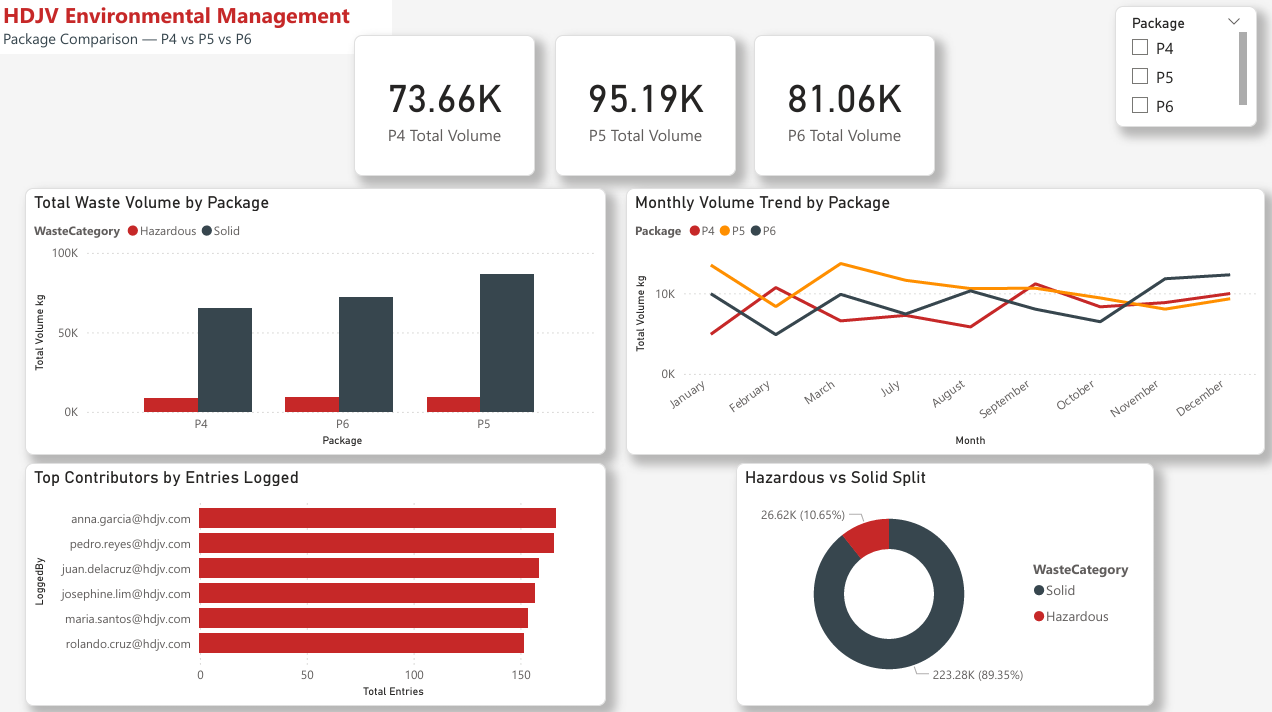

This screenshot's page, from the dashboard's own definition file:
{"tool":"powerbi","page":{"name":"Package Comparison","canvas":[1280,720],"ordinal":2},"visuals":[{"type":"textbox","box":[0,0,394.7,60.2],"z":0},{"type":"card","fields":{"Values":["WasteLog.P4 Total Volume"]},"box":[356,39.8,181.5,140.7],"z":1000},{"type":"card","fields":{"Values":["WasteLog.P5 Total Volume"]},"box":[556.9,39.8,181.5,140.7],"z":2000},{"type":"card","fields":{"Values":["WasteLog.P6 Total Volume"]},"box":[755.8,39.8,181.5,140.7],"z":3000},{"type":"clusteredColumnChart","title":"Total Waste Volume by Package","fields":{"Category":["WasteLog.Package"],"Y":["WasteLog.Total Volume kg"],"Series":["WasteLog.WasteCategory"]},"box":[26.5,192.8,581.4,267.2],"z":4000},{"type":"lineChart","title":"Monthly Volume Trend by Package","fields":{"Category":["WasteLog.Date.Variation.Date Hierarchy.Year","WasteLog.Date.Variation.Date Hierarchy.Quarter","WasteLog.Date.Variation.Date Hierarchy.Month","WasteLog.Date.Variation.Date Hierarchy.Day"],"Y":["WasteLog.Total Volume kg"],"Series":["WasteLog.Package"]},"box":[628.3,192.8,638.5,267.2],"z":5000},{"type":"clusteredBarChart","title":"Top Contributors by Entries Logged","fields":{"Category":["WasteLog.LoggedBy"],"Y":["WasteLog.Total Entries"]},"box":[26.5,468.1,581.4,242.7],"z":6000},{"type":"donutChart","title":"Hazardous vs Solid Split","fields":{"Category":["WasteLog.WasteCategory"],"Y":["WasteLog.Total Volume kg"]},"box":[738.4,468.1,417.1,242.7],"z":7000},{"type":"slicer","fields":{"Values":["WasteLog.Package"]},"box":[1116.8,11.2,141.8,120.4],"z":8001}]}

Visuals, with their boxes in screenshot pixels (x1, y1, x2, y2), scaled from the page's 1280x720 canvas onto the 1272x712 screenshot:
textbox: bbox=(0, 0, 392, 60)
card - WasteLog.P4 Total Volume: bbox=(354, 39, 534, 178)
card - WasteLog.P5 Total Volume: bbox=(553, 39, 734, 178)
card - WasteLog.P6 Total Volume: bbox=(751, 39, 931, 178)
"Total Waste Volume by Package" clusteredColumnChart: bbox=(26, 191, 604, 455)
"Monthly Volume Trend by Package" lineChart: bbox=(624, 191, 1259, 455)
"Top Contributors by Entries Logged" clusteredBarChart: bbox=(26, 463, 604, 703)
"Hazardous vs Solid Split" donutChart: bbox=(734, 463, 1148, 703)
slicer - WasteLog.Package: bbox=(1110, 11, 1251, 130)
